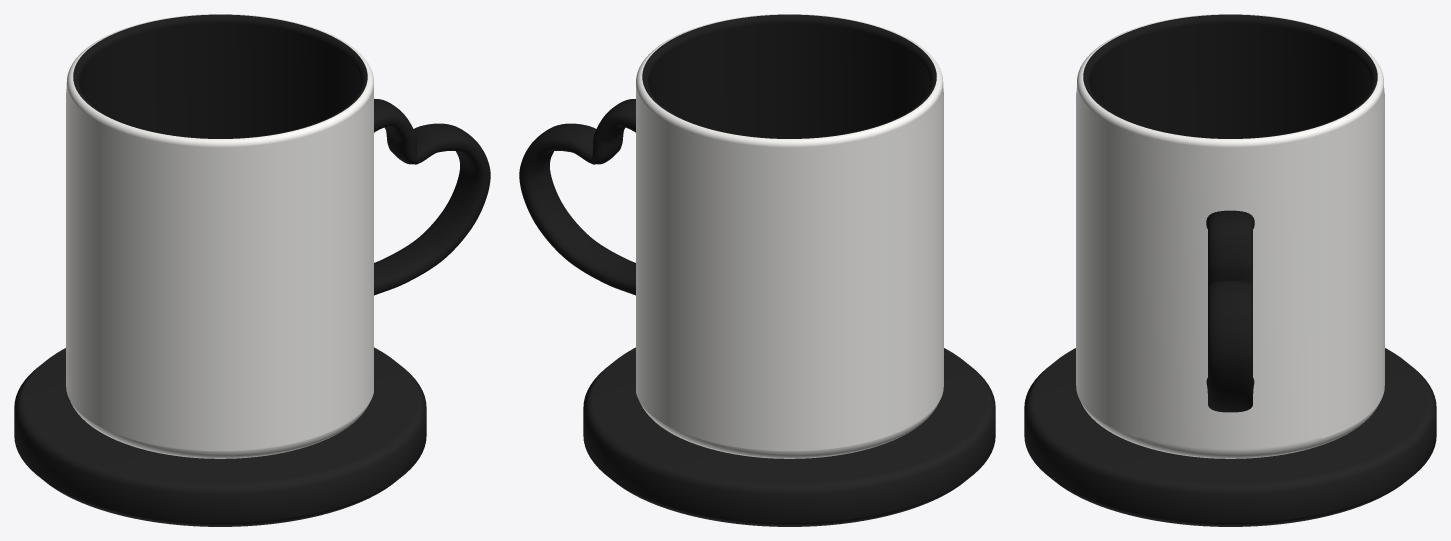
Rendered from caneca_coracao_com_base.glb.
3 views of the same model, side by side, from view 1: azimuth 30°, elevation 25°; view 2: azimuth 150°, elevation 25°; view 3: azimuth 270°, elevation 25° (orthographic).
Parts seen in each view (by area): view 1: Area_Arte, Base_Apoio, Interior_Caneca, Alca_Coracao, Corpo_Externo; view 2: Area_Arte, Base_Apoio, Interior_Caneca, Alca_Coracao, Corpo_Externo; view 3: Corpo_Externo, Area_Arte, Base_Apoio, Interior_Caneca, Alca_Coracao.
Part boxes in pixels (x1=…): Area_Arte: x1=66, y1=89, x2=373, y2=450; Base_Apoio: x1=14, y1=347, x2=426, y2=526; Interior_Caneca: x1=73, y1=14, x2=367, y2=138; Alca_Coracao: x1=374, y1=99, x2=490, y2=295; Corpo_Externo: x1=66, y1=14, x2=373, y2=458; Area_Arte: x1=636, y1=89, x2=943, y2=450; Base_Apoio: x1=583, y1=347, x2=995, y2=526; Interior_Caneca: x1=642, y1=14, x2=936, y2=138; Alca_Coracao: x1=519, y1=99, x2=635, y2=295; Corpo_Externo: x1=636, y1=14, x2=943, y2=458; Corpo_Externo: x1=1077, y1=14, x2=1383, y2=458; Area_Arte: x1=1076, y1=88, x2=1384, y2=438; Base_Apoio: x1=1024, y1=348, x2=1436, y2=526; Interior_Caneca: x1=1083, y1=14, x2=1377, y2=138; Alca_Coracao: x1=1206, y1=210, x2=1254, y2=412.
Bounding box in the file's own units: 0.1362 × 0.108 × 0.11.
Materials: 4 (1 with a texture image).
